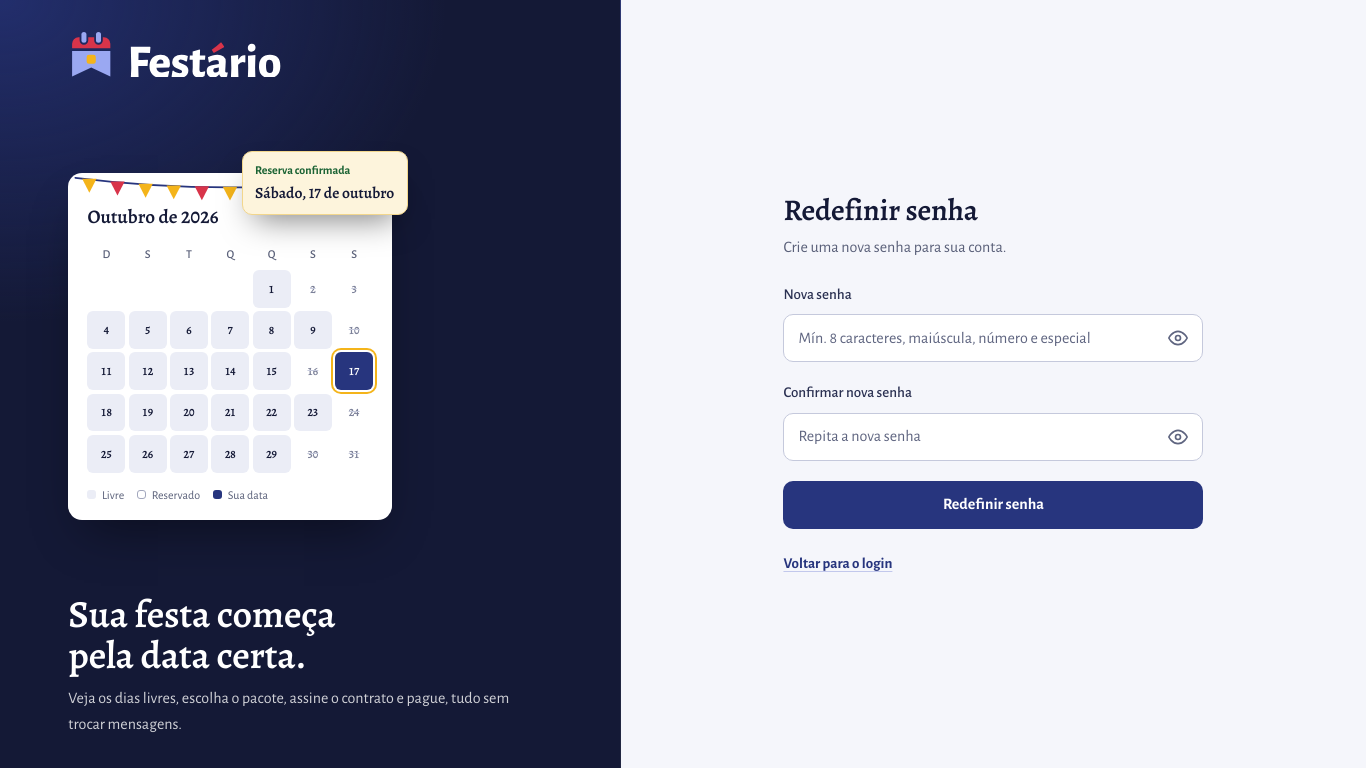
Test case: ResetPassword page › shows loading state while request is in flight
This screenshot has width=1366, height=768.
Type "Senha@123" into the password field with placeholder "Mín. 8 caracteres, maiúscula, número e especial" at {"x": 979, "y": 338}, box x1=798 y1=315 x2=1160 y2=361
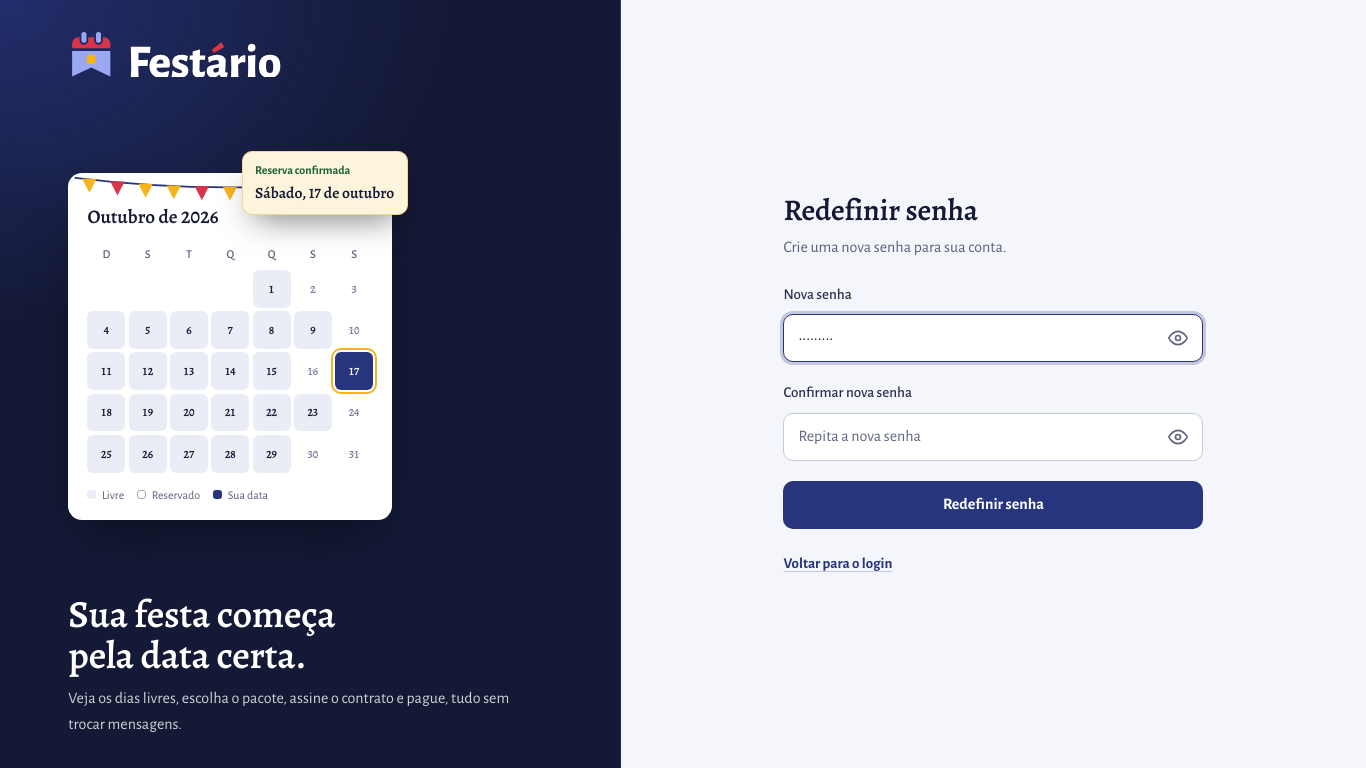
Type "Senha@123" into the password field with placeholder "Repita a nova senha" at {"x": 979, "y": 437}, box x1=798 y1=414 x2=1160 y2=460
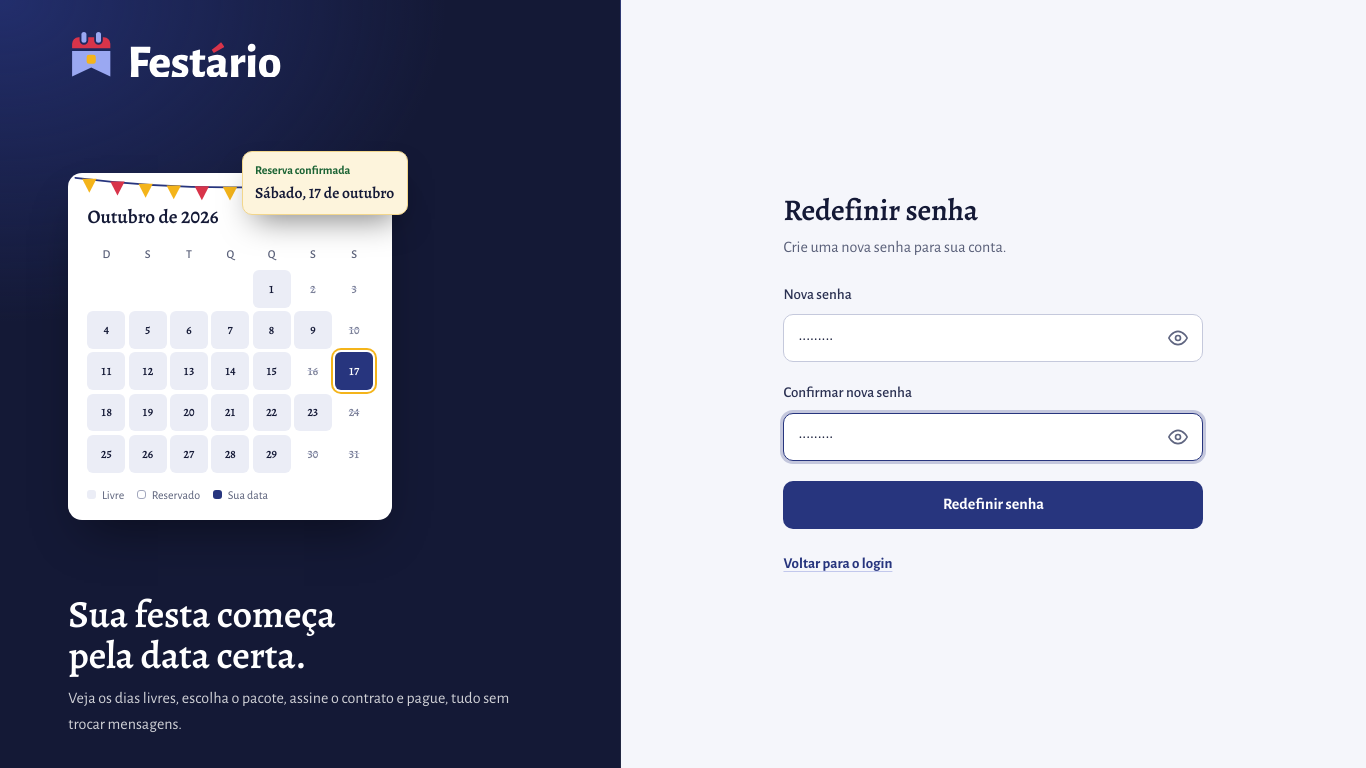
Click the button "Redefinir senha" at {"x": 993, "y": 505}, box x1=783 y1=481 x2=1203 y2=529
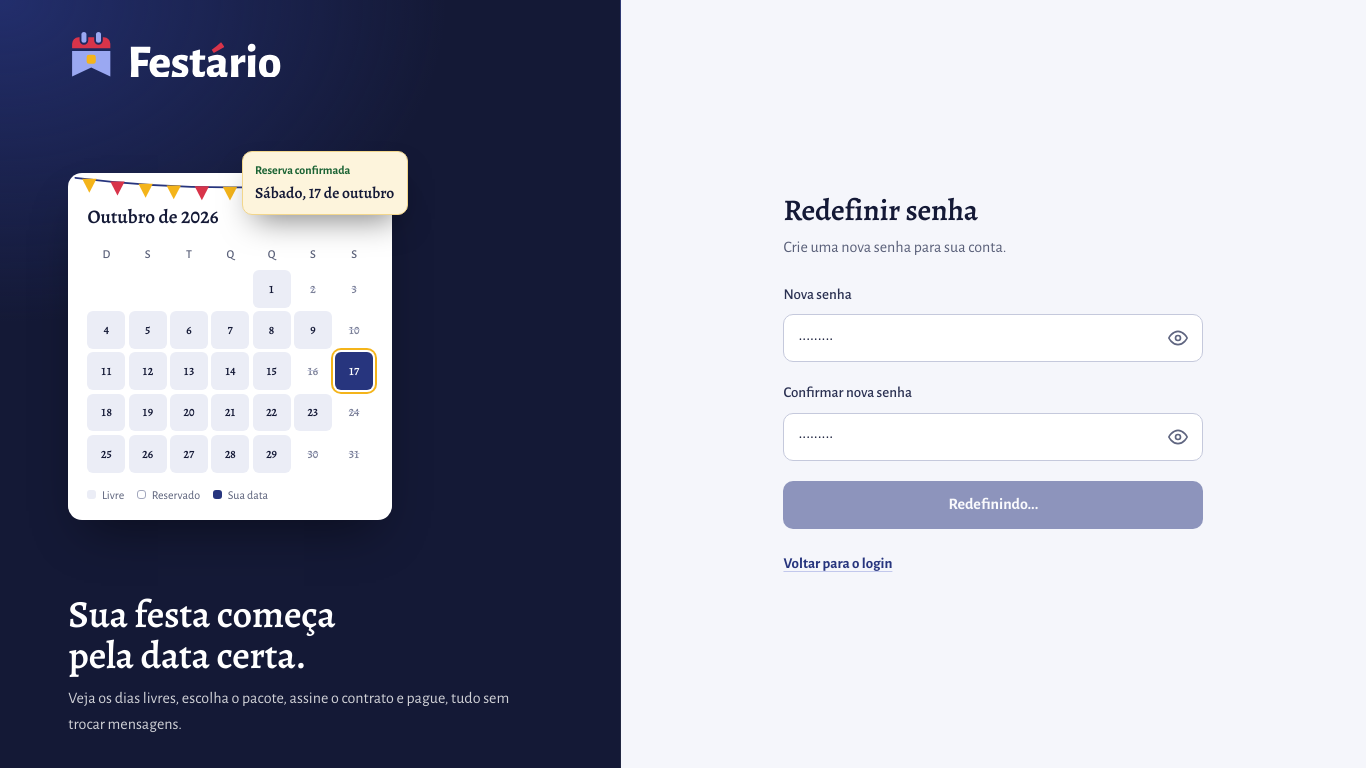
Expected: the button "Redefinindo..." is disabled, x1=783 y1=481 x2=1203 y2=529
